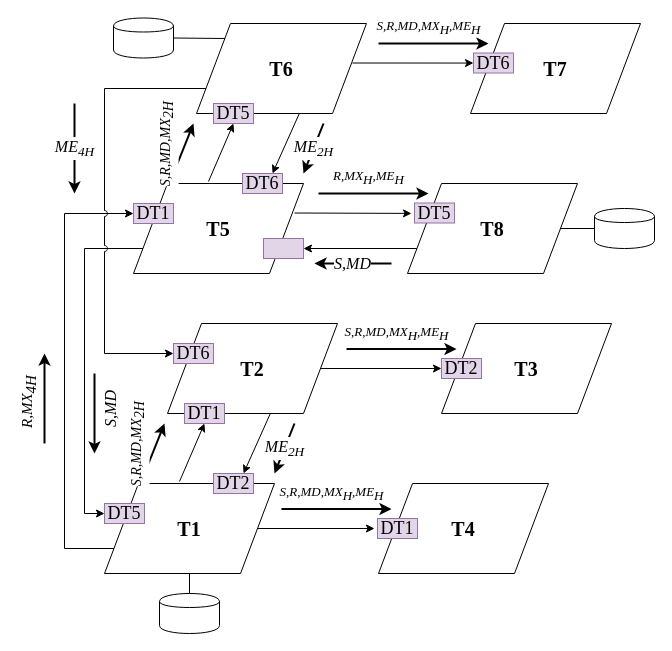
The diagram is 672 pixels wide and 651 high, and some of its shapes have lost their labels. The shapes that lost their labels are listed below. From the top down, each one's centre as x and y in pixels, then its label:
At point 143,37: "ME".
At point 283,248: "DT8".
At point 624,228: "MD".
At point 189,613: "R, MX".
